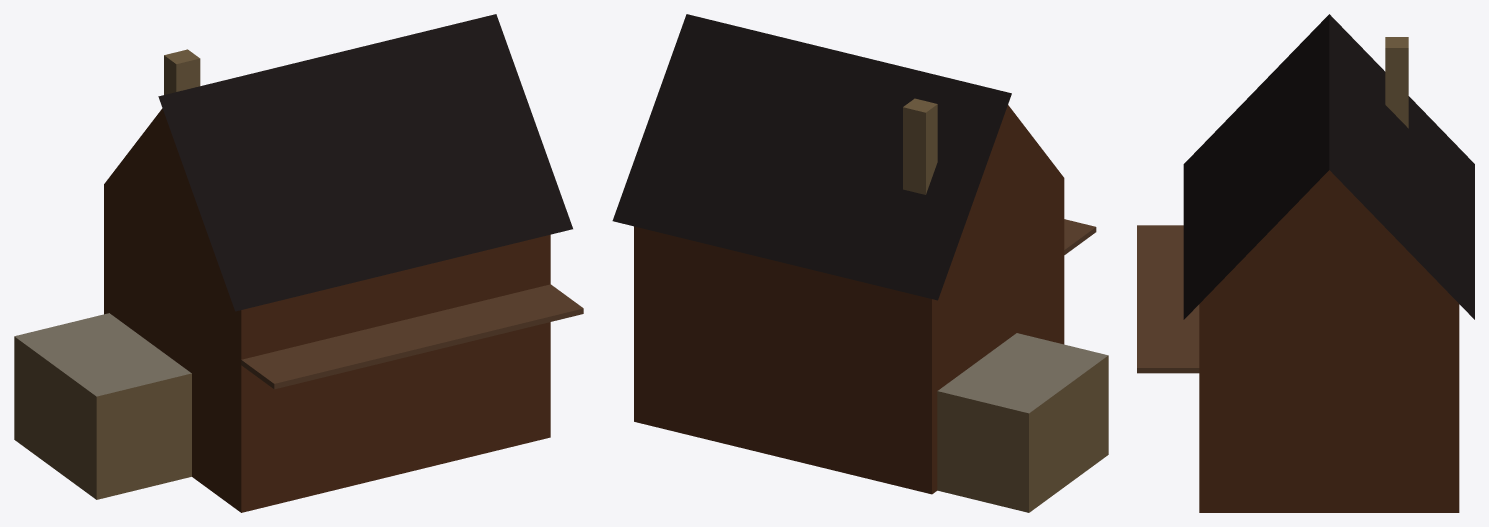
The model's file is rw-timber-lodge.towns-v1.lod2.glb.
The picture shows the model from 3 angles, left to right: view 1: azimuth 30°, elevation 25°; view 2: azimuth 150°, elevation 25°; view 3: azimuth 270°, elevation 25°; orthographic projection. The views are drawn at different scales.
Visible parts, largest first — view 1: rw-timber-lodge; view 2: rw-timber-lodge; view 3: rw-timber-lodge.
Part boxes in pixels (<box>): rw-timber-lodge: <box>14,14,583,512</box>; rw-timber-lodge: <box>612,14,1108,512</box>; rw-timber-lodge: <box>1137,14,1474,512</box>.
Size of the model in its own units: 17.6 by 14.84 by 13.
